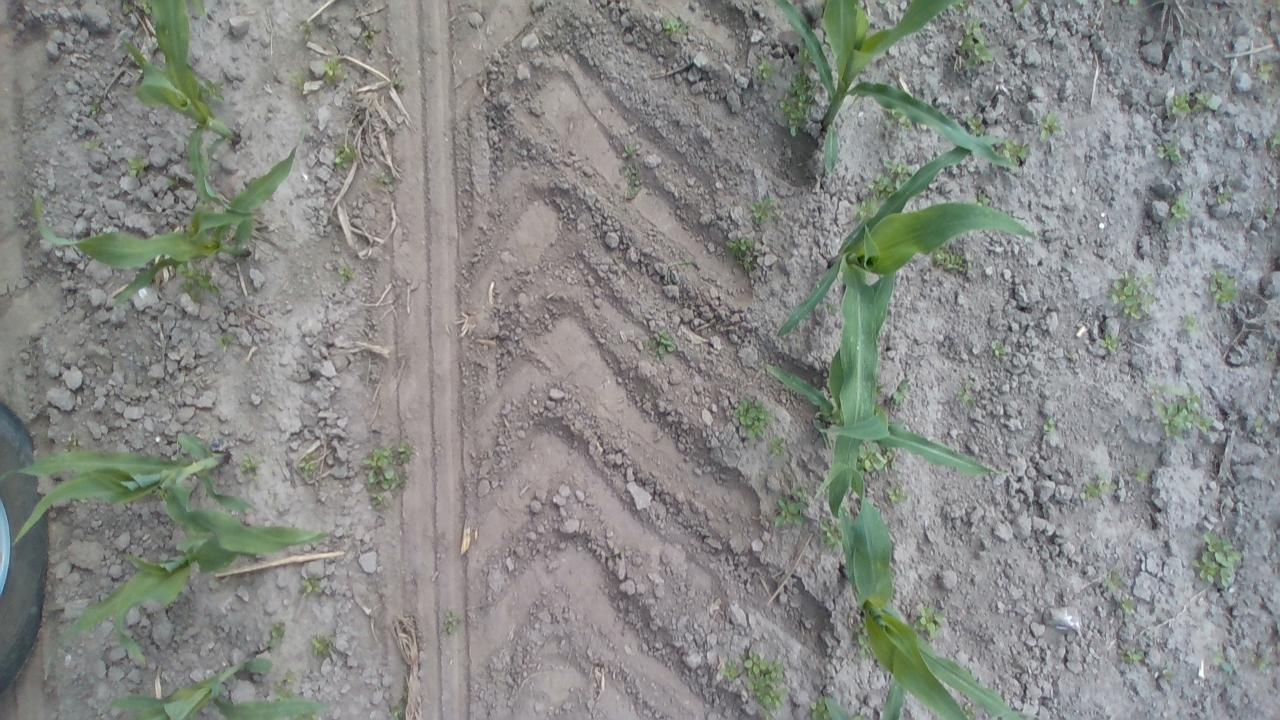Maize: (776, 146, 1038, 414), (766, 286, 1004, 520), (814, 463, 1022, 720), (31, 140, 299, 307), (776, 0, 1022, 175), (53, 528, 337, 666), (0, 433, 257, 556), (122, 0, 238, 207), (113, 658, 330, 720)
Weeds: (1150, 384, 1214, 445), (360, 438, 414, 507), (741, 646, 790, 720), (1192, 528, 1244, 588), (776, 68, 817, 137), (1108, 271, 1156, 319), (177, 264, 224, 306), (734, 397, 778, 441), (867, 157, 911, 201), (958, 16, 993, 68), (774, 487, 810, 530), (1166, 90, 1218, 117), (911, 604, 944, 642), (641, 327, 676, 362), (859, 442, 898, 472), (724, 236, 754, 274), (932, 244, 968, 274), (1080, 472, 1118, 500), (1209, 270, 1240, 304), (750, 196, 784, 226), (852, 614, 874, 660), (815, 516, 842, 552), (320, 56, 350, 88), (852, 198, 884, 226), (1002, 136, 1028, 167), (1168, 192, 1191, 225), (310, 630, 336, 659), (272, 669, 297, 698), (881, 110, 913, 131), (334, 142, 356, 171), (1040, 112, 1062, 141), (661, 16, 690, 38), (265, 624, 289, 650), (810, 694, 834, 720), (299, 453, 322, 480), (623, 167, 641, 201), (238, 454, 259, 482), (125, 153, 148, 178), (956, 382, 977, 409), (892, 380, 911, 409), (202, 79, 224, 103), (1100, 332, 1122, 356), (755, 56, 776, 81), (722, 654, 742, 680), (120, 0, 152, 16), (444, 608, 463, 634), (1255, 58, 1276, 81), (1212, 648, 1232, 672), (1120, 646, 1144, 666), (1156, 141, 1180, 161), (302, 572, 323, 594), (884, 486, 908, 505), (1182, 312, 1202, 334), (966, 115, 986, 137), (1102, 574, 1126, 592), (1248, 652, 1268, 672), (989, 338, 1008, 359), (767, 435, 785, 457), (217, 334, 235, 354), (337, 266, 356, 284), (288, 70, 306, 88), (1011, 0, 1029, 18), (1120, 596, 1136, 614), (1267, 129, 1280, 149), (622, 143, 638, 159), (386, 705, 403, 720), (84, 102, 100, 117), (975, 193, 990, 209), (1043, 416, 1056, 434), (1216, 191, 1234, 204), (378, 175, 396, 187), (82, 140, 99, 151), (1253, 420, 1266, 434), (393, 78, 408, 90), (1135, 466, 1147, 481), (954, 0, 969, 11), (302, 22, 314, 34), (1262, 206, 1275, 217), (166, 179, 178, 188), (848, 714, 865, 720), (1272, 0, 1280, 12), (1126, 0, 1138, 8)
